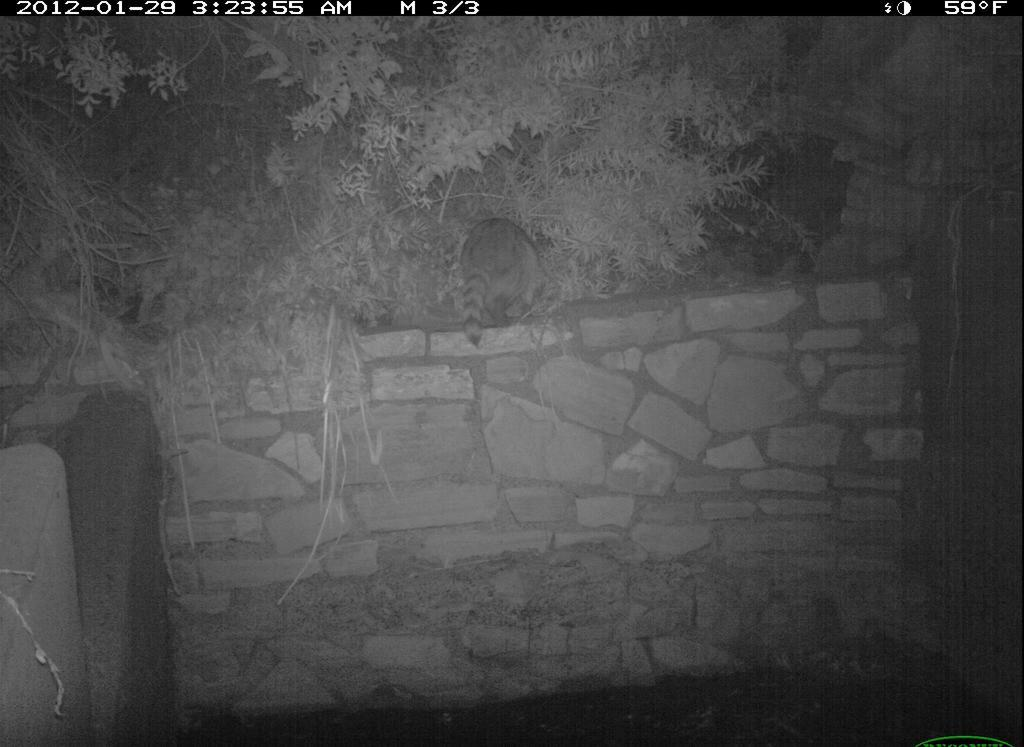raccoon: (447, 211, 557, 356)
